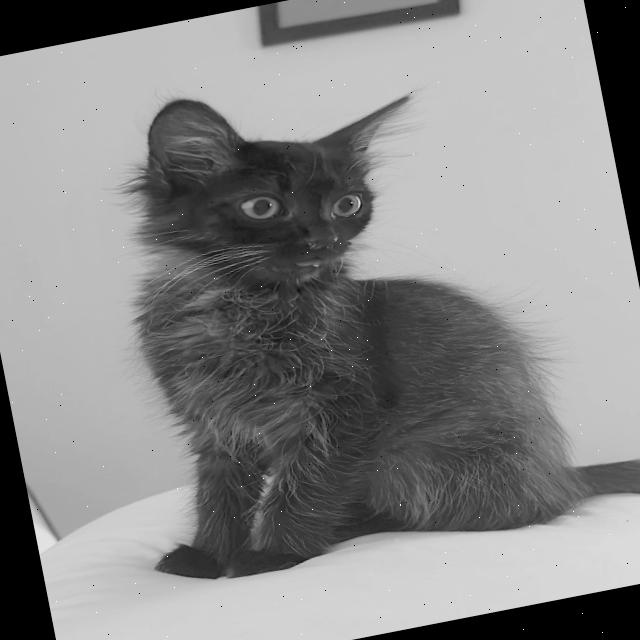domestic_long_hair_cat: (66, 45, 468, 348)
